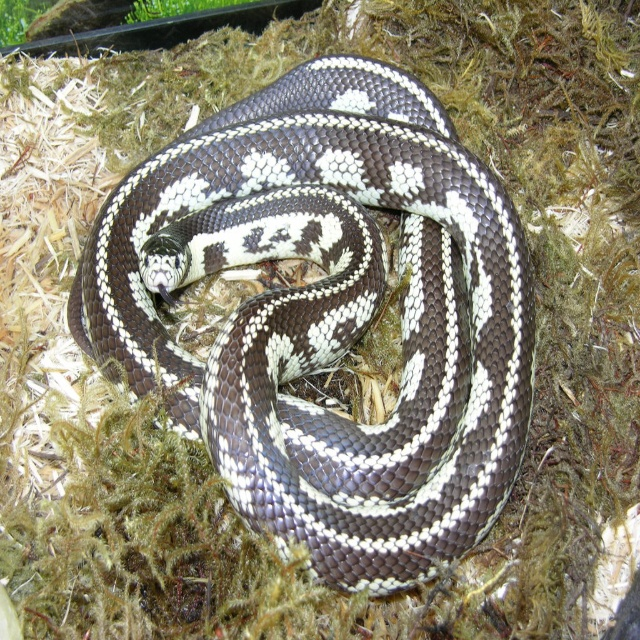Snake: (63, 49, 539, 600)
